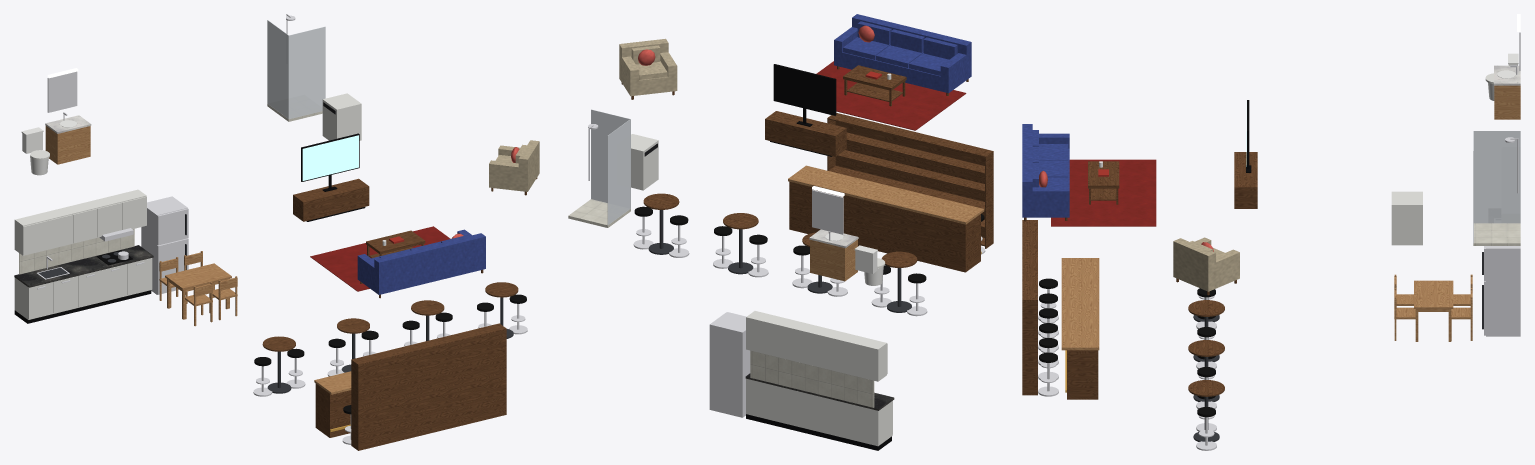
File: i_irish_pub.gltf
3 renders of one model, left to right at view 1: azimuth 30°, elevation 25°; view 2: azimuth 150°, elevation 25°; view 3: azimuth 270°, elevation 25°, orthographic. The views are drawn at different scales.
Parts seen in each view (by area): view 1: I_irish_pub; view 2: I_irish_pub; view 3: I_irish_pub.
Boxes of the visible parts, x1=… form: I_irish_pub: x1=14, y1=14, x2=539, y2=450; I_irish_pub: x1=568, y1=14, x2=993, y2=450; I_irish_pub: x1=1022, y1=14, x2=1520, y2=450.
Size of the model in its own units: 9.32 by 5.45 by 9.49.
Materials: 21 (9 with a texture image).
